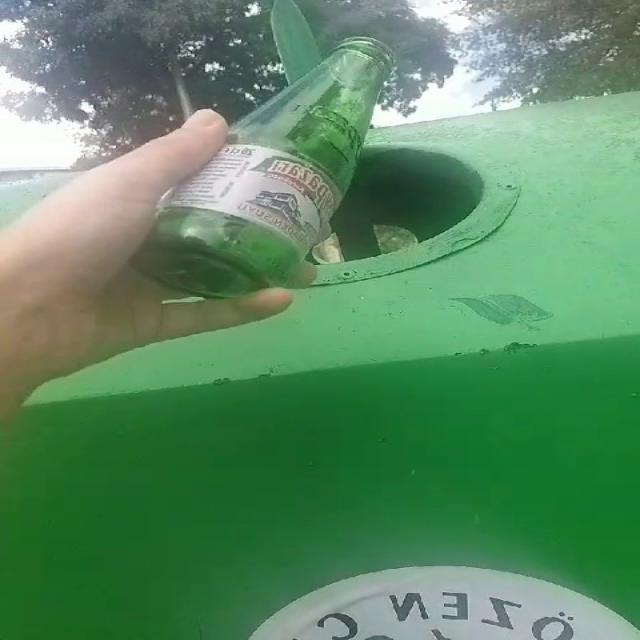glass: (139, 36, 393, 296)
